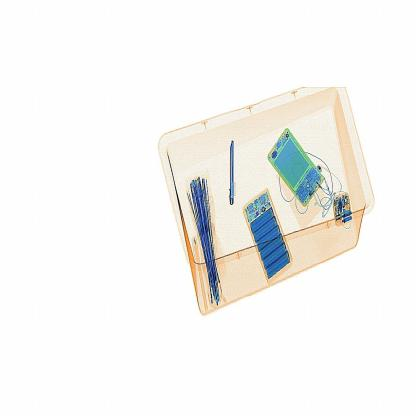pliers: (220, 130, 242, 212)
